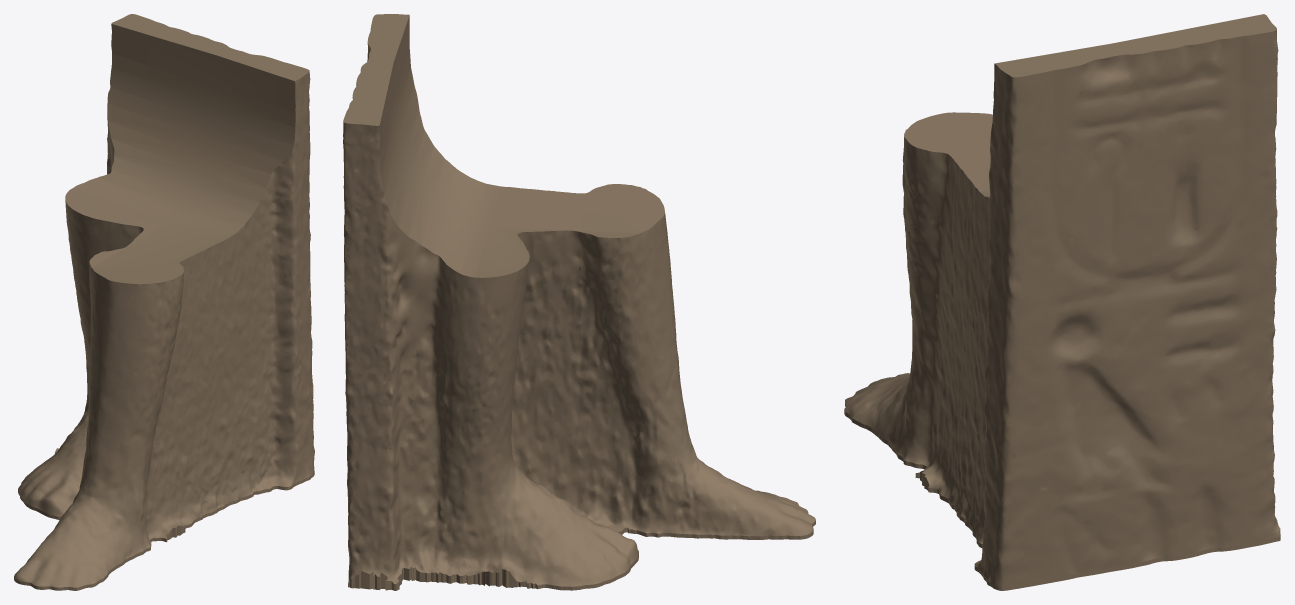
Rendered from stool.glb.
3 views of the same model, side by side, from view 1: azimuth 30°, elevation 25°; view 2: azimuth 150°, elevation 25°; view 3: azimuth 270°, elevation 25° (orthographic). The views are drawn at different scales.
Parts seen in each view (by area): view 1: default002.001; view 2: default002.001; view 3: default002.001.
Boxes of the visible parts, x1,y1,x2,y2 form: default002.001: (14, 14, 314, 590); default002.001: (343, 14, 815, 590); default002.001: (844, 14, 1280, 590).
Bounding box in the file's own units: 0.6229 × 0.7083 × 0.5456.
